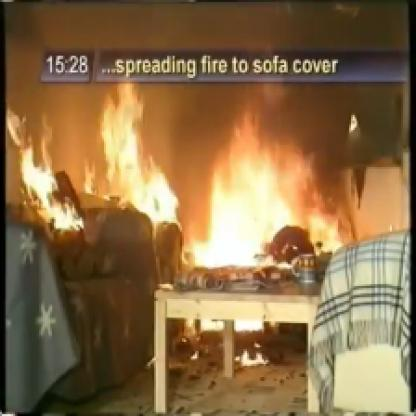fire: (165, 100, 374, 327), (4, 76, 177, 268)
